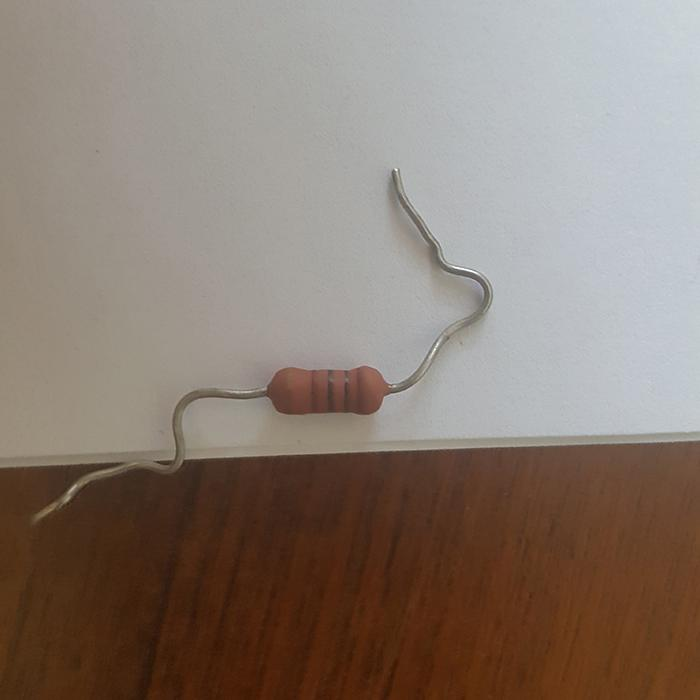resistor: (268, 364, 388, 415)
